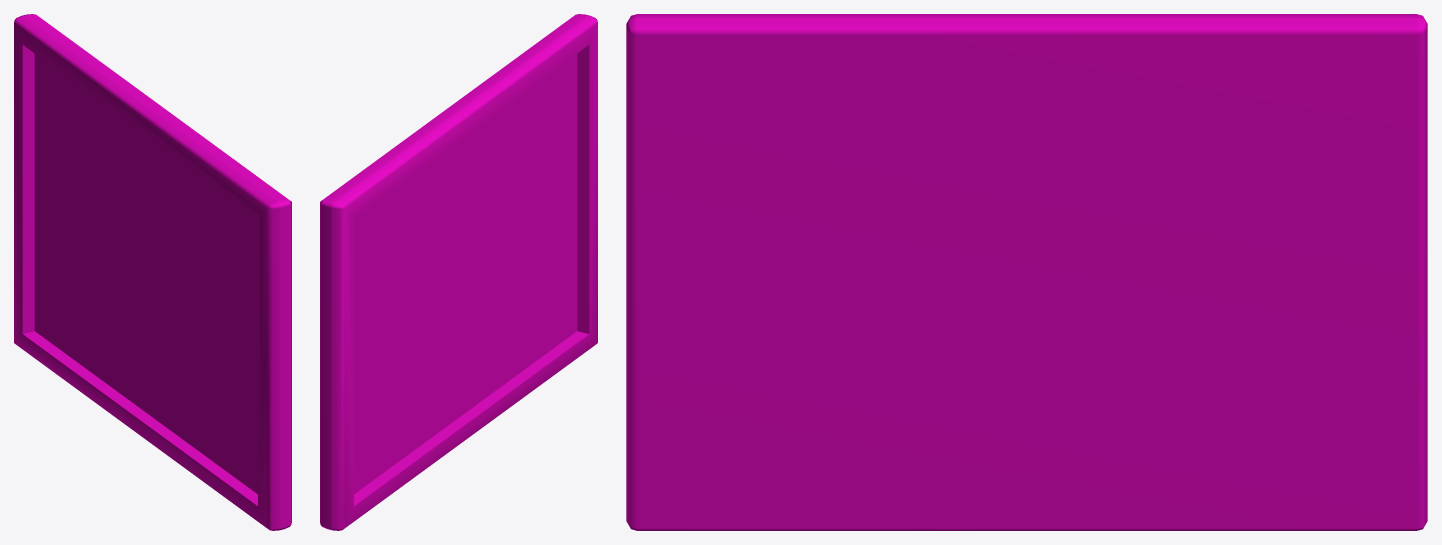
File: Picture_Frame_01.fbx
3 views of the same model, side by side, from view 1: azimuth 30°, elevation 25°; view 2: azimuth 150°, elevation 25°; view 3: azimuth 270°, elevation 25° (orthographic). The views are drawn at different scales.
Parts seen in each view (by area): view 1: Picture_Frame_01; view 2: Picture_Frame_01; view 3: Picture_Frame_01.
Part boxes in pixels (<box>): Picture_Frame_01: <box>14,14,291,530</box>; Picture_Frame_01: <box>320,14,597,530</box>; Picture_Frame_01: <box>626,14,1427,530</box>.
Bounding box in the file's own units: 3.4 × 42.3 × 60.69.
